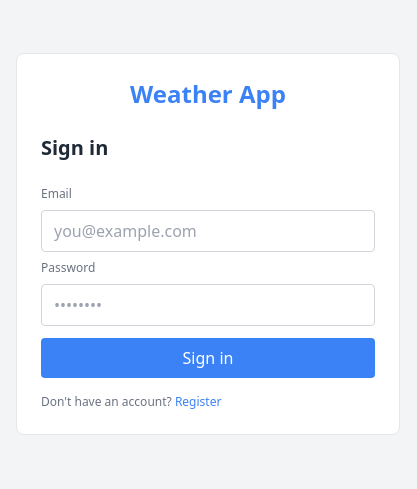
Test case: AuthPage › switches to RegisterForm when Register link is clicked
Click the text "Register" at (198, 402), box [175,393,221,410]
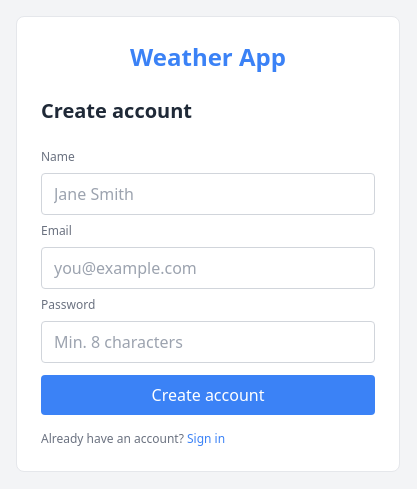
Expected: the heading "Create account" is shown, [41,97,192,124]
